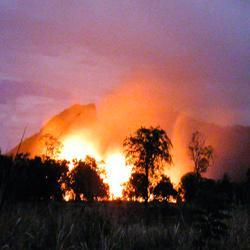fire: (107, 152, 129, 197), (61, 134, 92, 159)
